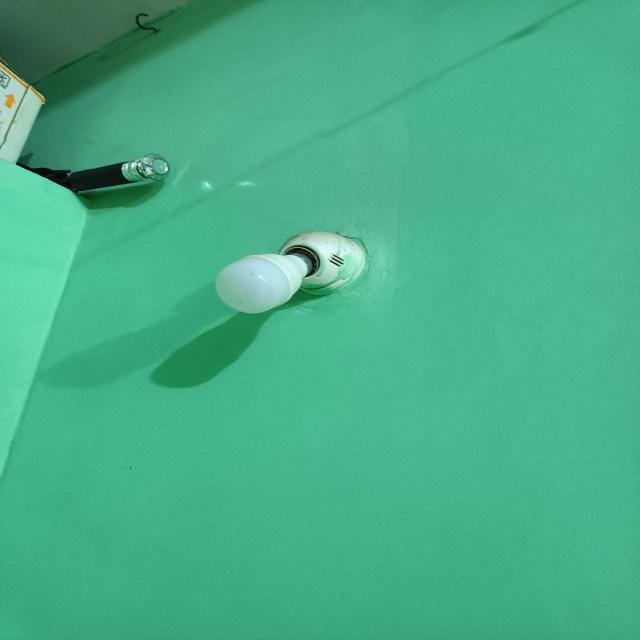bulb_off: (212, 247, 321, 322)
